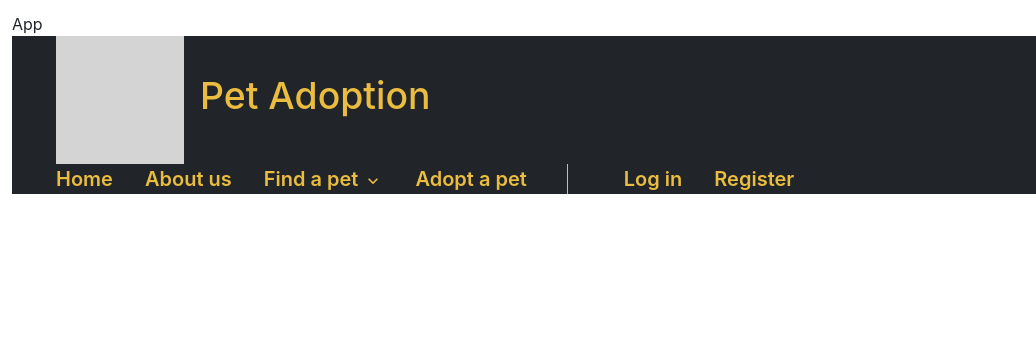
Test: <Header /> › clicking on Find a pet › shows list of animals
This screenshot has width=1036, height=357.
Click the button "Find a pet" at (324, 179), box top-left (264, 167), bottom-right (383, 191)
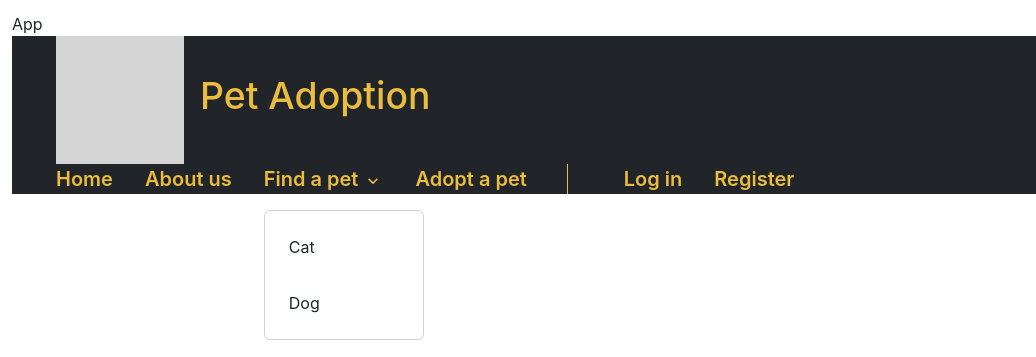
Expected: the link "cat" is shown, top-left (289, 237), bottom-right (315, 257)
Expected: the link "dog" is shown, top-left (289, 293), bottom-right (320, 313)
